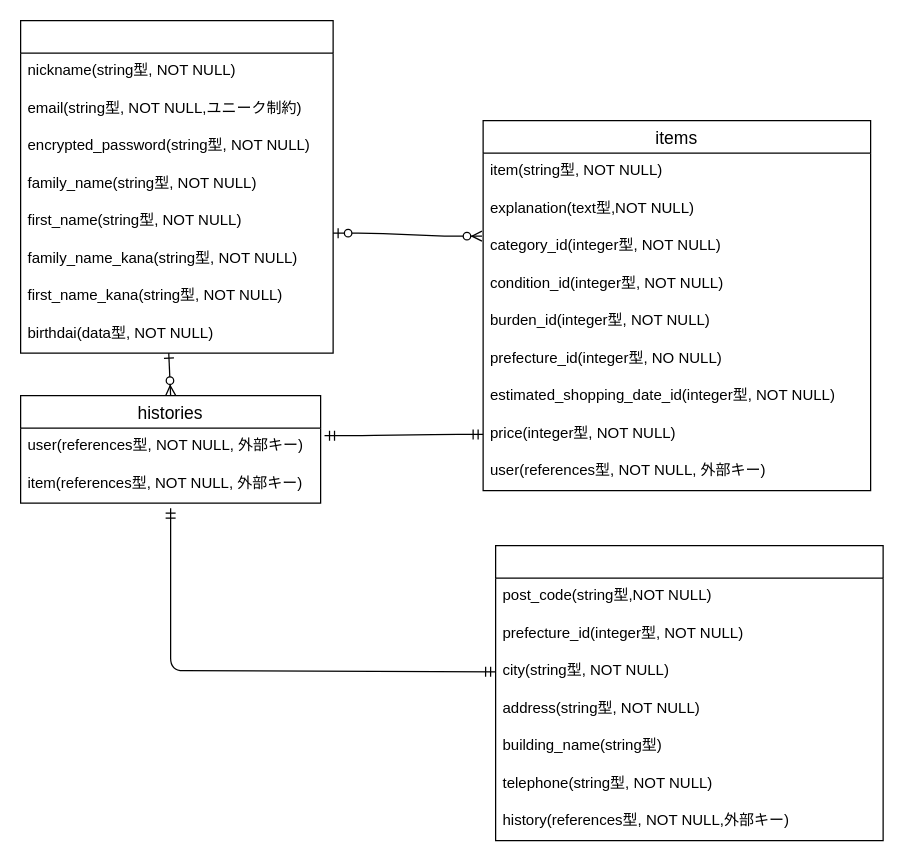
Image size: 904x861. Some labels were removed from this diagram. Each missing label, with the box of its shape:
shipping_addresses: (494, 544, 883, 841)
users: (19, 19, 333, 353)
